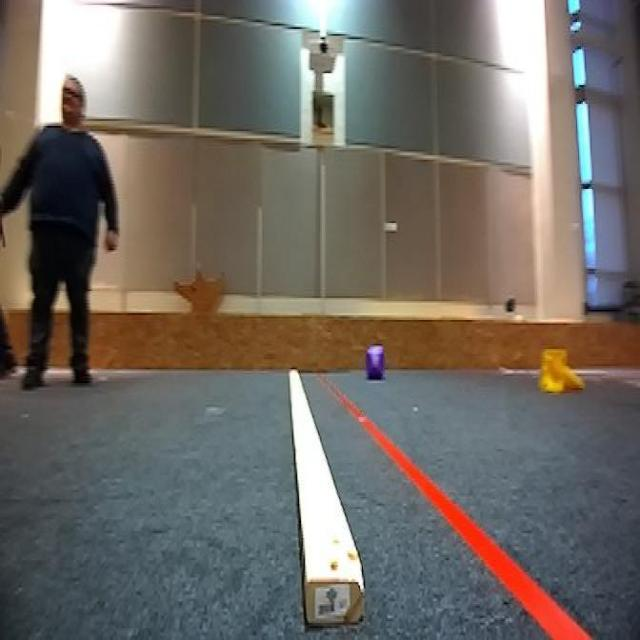frc_cone: (536, 344, 578, 396)
frc_cube: (363, 344, 388, 385)
